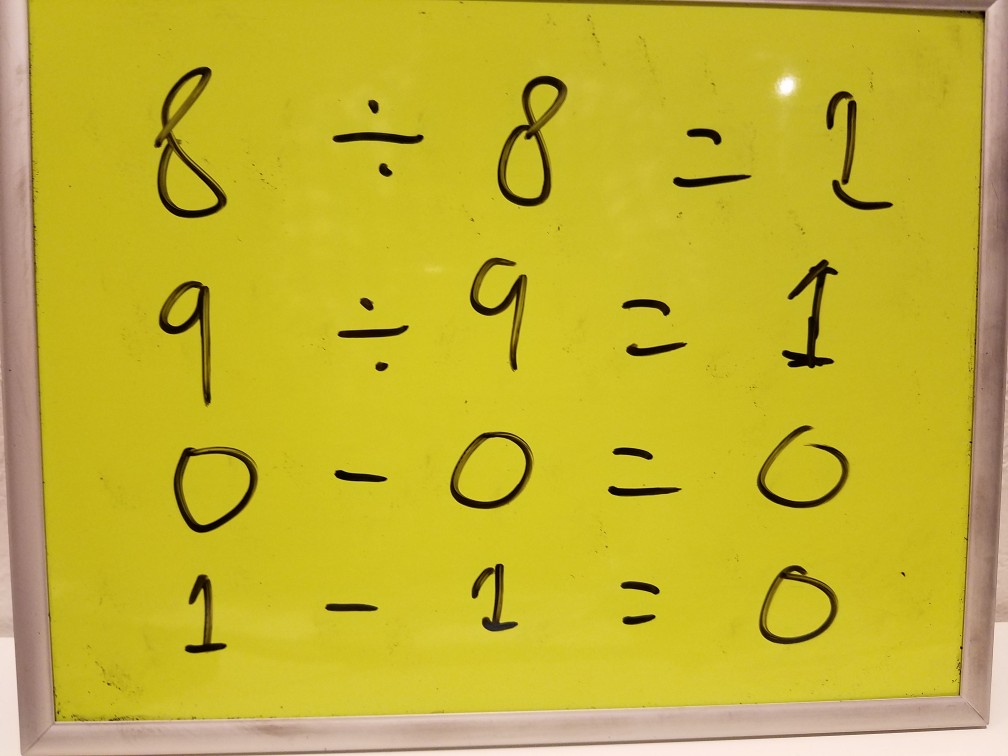-: (321, 451, 395, 499), (317, 583, 386, 628)
0: (745, 552, 854, 653), (746, 421, 858, 517), (164, 440, 265, 539), (440, 423, 541, 513)
1: (812, 70, 901, 230), (773, 252, 848, 381), (459, 551, 538, 651), (175, 565, 235, 660)
8: (134, 56, 241, 228), (486, 60, 569, 211)
9: (463, 250, 540, 381), (157, 274, 224, 406)
=: (657, 109, 757, 203), (607, 279, 698, 366), (599, 436, 694, 516), (604, 566, 683, 642)
div: (329, 88, 427, 181), (336, 287, 416, 375)
